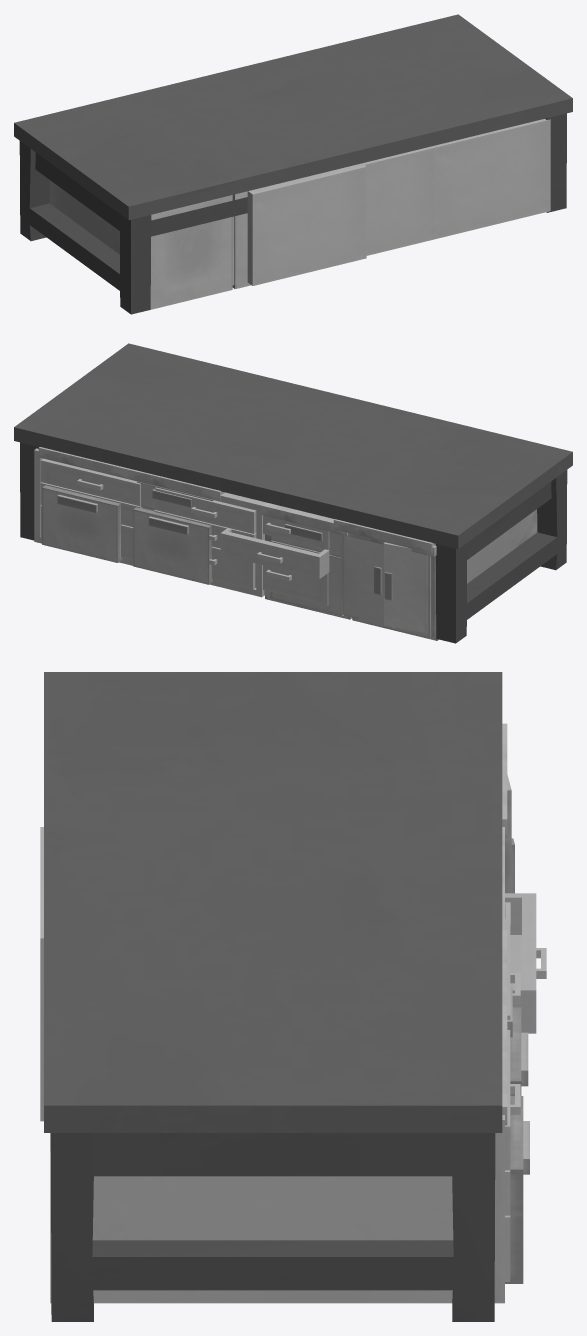
The model's file is Pfb_Table_02_4_JLAB_Temp.fbx.
3 views of the same model, one above another, from view 1: azimuth 30°, elevation 25°; view 2: azimuth 150°, elevation 25°; view 3: azimuth 270°, elevation 25° (orthographic). The views are drawn at different scales.
Parts seen in each view (by area): view 1: Mat_Table_02White, Kitchen 4, Kitchen; view 2: Mat_Table_02White, Kitchen, Kitchen 4; view 3: Mat_Table_02White, Kitchen 4, Kitchen.
Part boxes in pixels (x1,y1,x2,y2): Mat_Table_02White: (14,14,572,314); Kitchen 4: (247,119,550,285); Kitchen: (49,180,250,309); Mat_Table_02White: (14,343,572,643); Kitchen: (38,447,537,640); Kitchen 4: (34,448,336,605); Mat_Table_02White: (44,672,502,1321); Kitchen 4: (40,827,546,1303); Kitchen: (502,723,529,1283).
Bounding box in the file's own units: 2.78 × 0.6734 × 1.37.
Materials: 3 (3 with a texture image).
